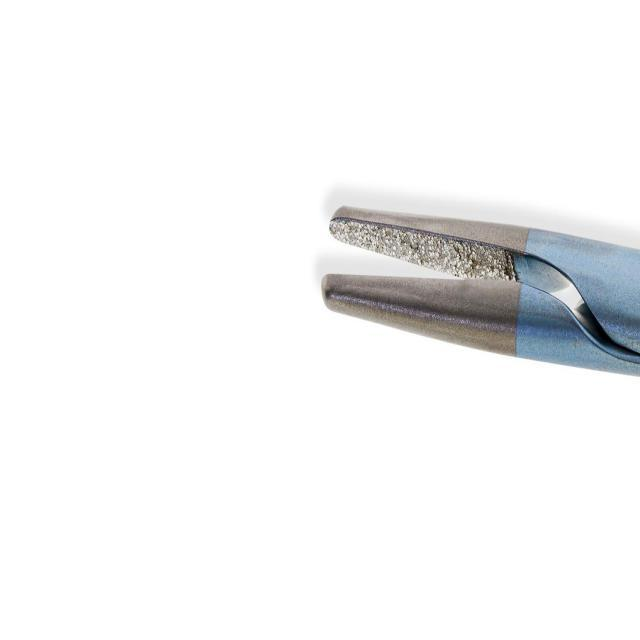Castroviejo: (319, 200, 640, 380)
